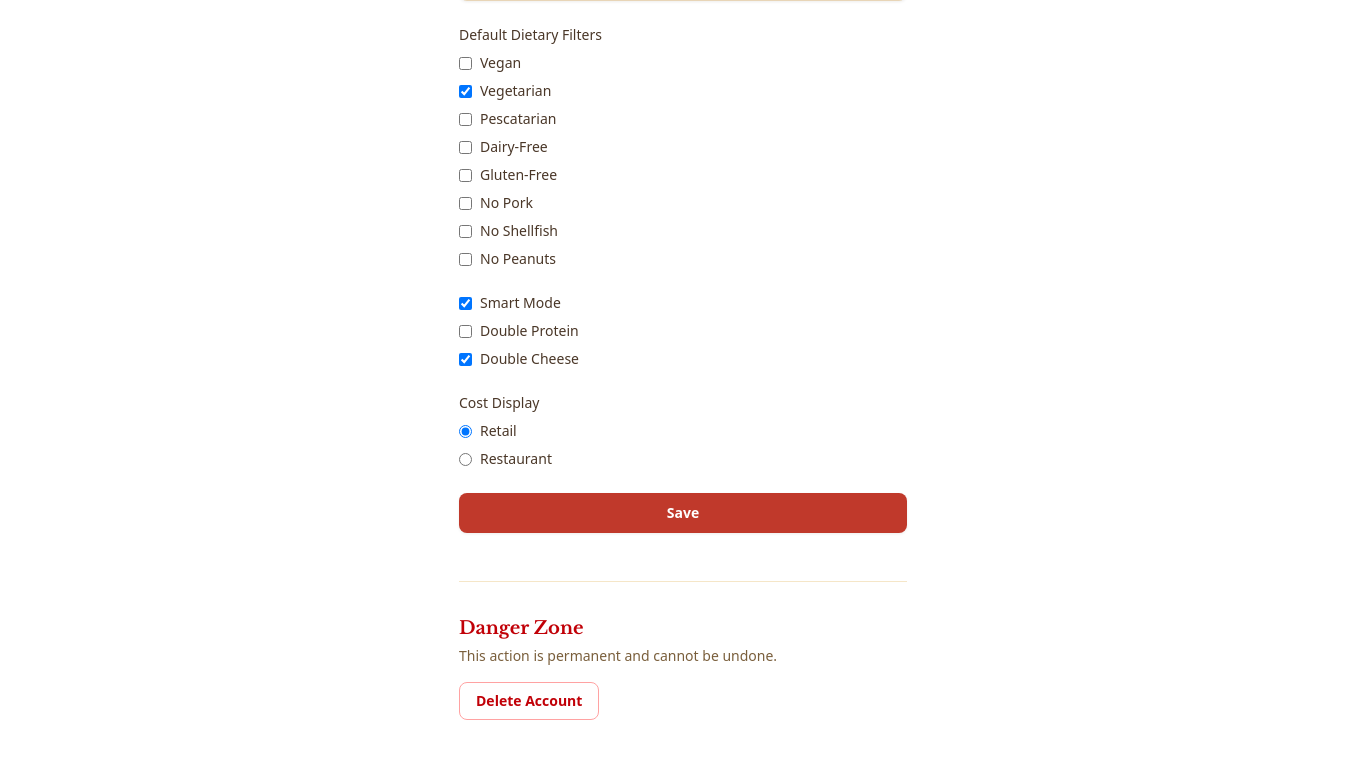
Test: SettingsPage › when authenticated › account deletion › shows a confirmation modal when delete button is clicked
(page scrolled)
Click the button "Delete Account" at (529, 701), box [459,682,599,720]
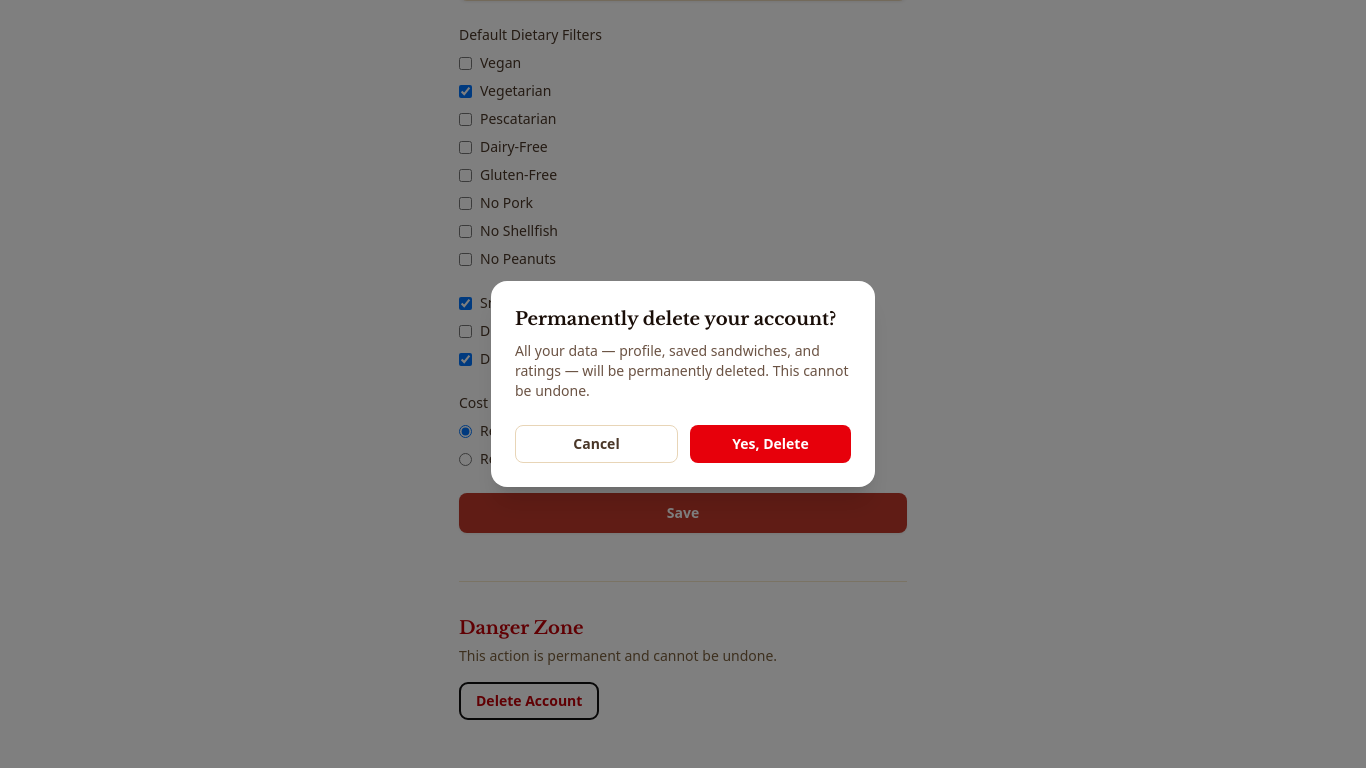
Expected: the dialog is shown, [491,281,875,487]
Expected: the heading "Permanently delete your account?" is shown, [515,305,851,333]
